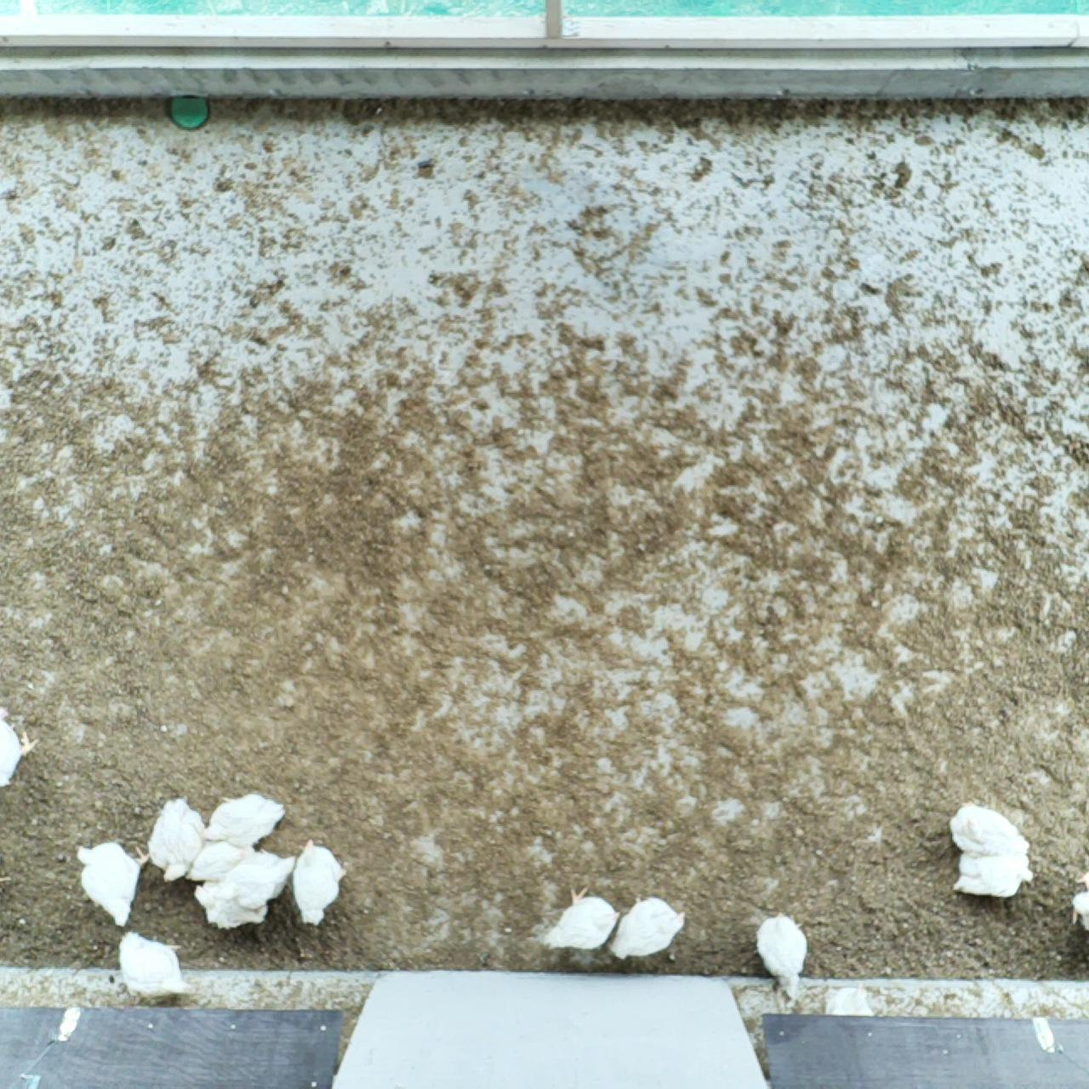chicken: (73, 836, 152, 925), (117, 925, 194, 1006), (145, 792, 209, 886), (607, 892, 688, 964), (542, 883, 620, 956), (945, 797, 1033, 861), (752, 907, 811, 1002), (292, 839, 349, 927), (202, 790, 287, 849), (210, 848, 299, 903), (949, 849, 1036, 899), (191, 876, 267, 931), (0, 706, 41, 792), (187, 838, 256, 881)
